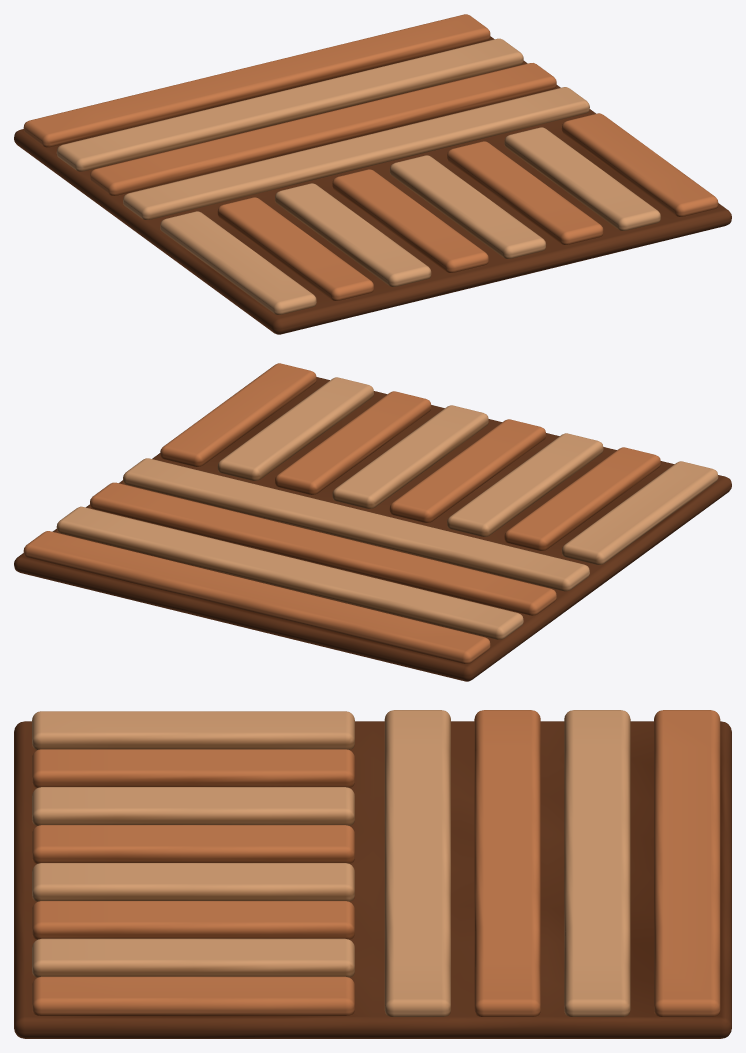
Rendered from tile_boardwalk_corner.glb.
3 views of the same model, one above another, from view 1: azimuth 30°, elevation 25°; view 2: azimuth 150°, elevation 25°; view 3: azimuth 270°, elevation 25° (orthographic). The views are drawn at different scales.
Parts seen in each view (by area): view 1: f_frame, pa0, pa1, pa2, pa3, pb5, pb0, pb3, pb2, pb6, pb4, pb1 (+1 smaller); view 2: f_frame, pa0, pa1, pa2, pa3, pb2, pb4, pb7, pb1, pb3, pb5, pb6 (+1 smaller); view 3: f_frame, pa1, pa2, pa0, pa3, pb7, pb0, pb6, pb1, pb2, pb3, pb4 (+1 smaller).
Part boxes in pixels (bbox=[...]): f_frame: bbox=[14, 36, 731, 334]; pa0: bbox=[23, 14, 490, 147]; pa1: bbox=[56, 38, 523, 171]; pa2: bbox=[90, 63, 556, 195]; pa3: bbox=[123, 87, 589, 219]; pb5: bbox=[447, 141, 603, 244]; pb0: bbox=[160, 211, 316, 314]; pb3: bbox=[332, 169, 488, 272]; pb2: bbox=[275, 183, 431, 286]; pb6: bbox=[504, 127, 660, 230]; pb4: bbox=[389, 155, 546, 258]; pb1: bbox=[217, 197, 373, 300]; f_frame: bbox=[14, 377, 731, 681]; pa0: bbox=[23, 531, 490, 663]; pa1: bbox=[56, 506, 523, 639]; pa2: bbox=[90, 482, 556, 615]; pa3: bbox=[123, 458, 589, 591]; pb2: bbox=[447, 433, 603, 536]; pb4: bbox=[332, 405, 488, 508]; pb7: bbox=[160, 363, 316, 466]; pb1: bbox=[504, 447, 660, 550]; pb3: bbox=[389, 419, 546, 522]; pb5: bbox=[275, 391, 431, 494]; pb6: bbox=[217, 377, 373, 480]; f_frame: bbox=[14, 721, 731, 1038]; pa1: bbox=[564, 710, 630, 1016]; pa2: bbox=[474, 710, 540, 1016]; pa0: bbox=[654, 710, 720, 1016]; pa3: bbox=[384, 710, 450, 1016]; pb7: bbox=[32, 976, 354, 1015]; pb0: bbox=[32, 711, 354, 749]; pb6: bbox=[32, 938, 354, 977]; pb1: bbox=[32, 749, 354, 787]; pb2: bbox=[32, 787, 354, 825]; pb3: bbox=[32, 825, 354, 863]; pb4: bbox=[32, 863, 354, 901].
Size of the model in its own units: 4 by 0.22 by 4.
